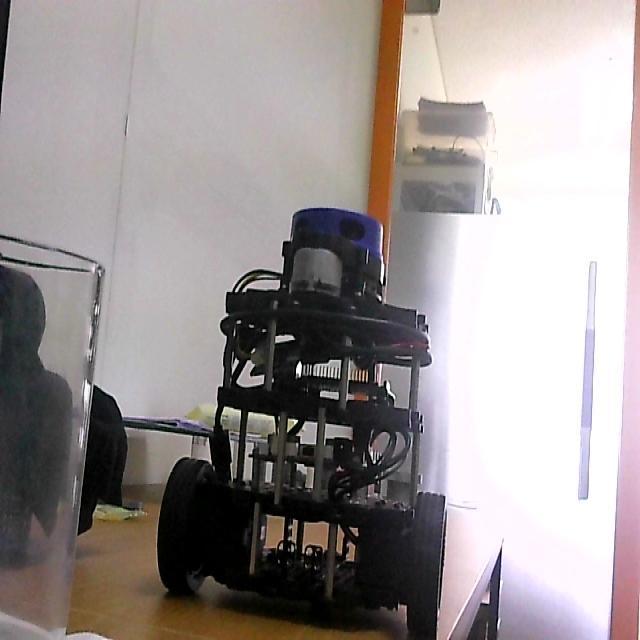turtle: (153, 201, 451, 640)
